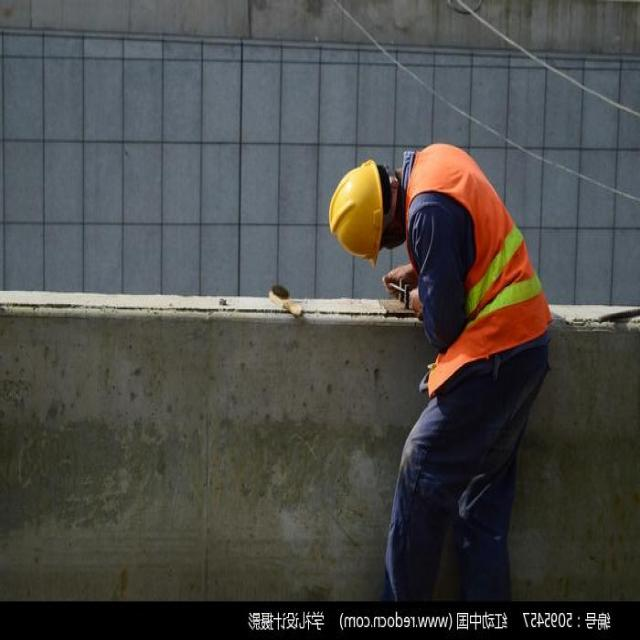Reflective-Jacket: (406, 140, 557, 388)
Safety-Helmet: (326, 153, 388, 272)
